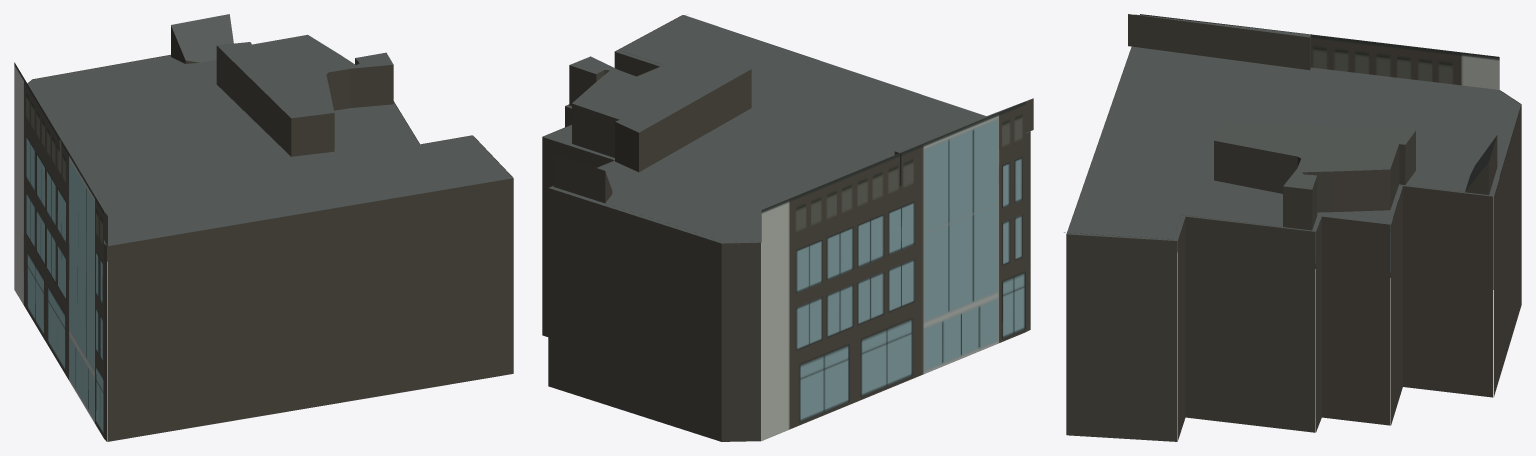
The picture shows the model from 3 angles, left to right: view 1: azimuth 30°, elevation 25°; view 2: azimuth 150°, elevation 25°; view 3: azimuth 270°, elevation 25°; orthographic projection. The views are drawn at different scales.
Visible parts, largest first — view 1: 0363100012168201; view 2: 0363100012168201; view 3: 0363100012168201.
Boxes of the visible parts, left/top/right/bottom form: 0363100012168201: left=14, top=14, right=513, bottom=441; 0363100012168201: left=542, top=15, right=1033, bottom=441; 0363100012168201: left=1064, top=14, right=1521, bottom=441.
Bounding box in the file's own units: 25.98 × 15.03 × 25.86.
2 materials, 1 textured.
